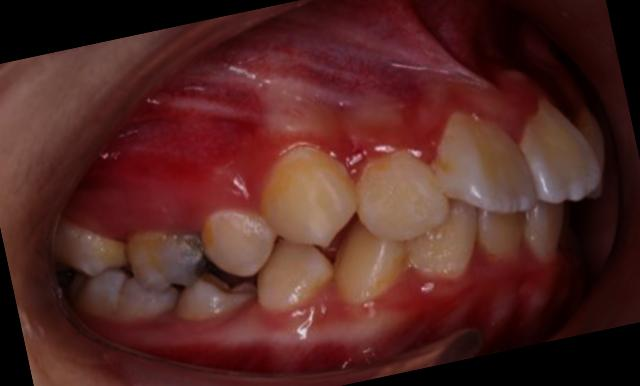canine class I: (223, 121, 401, 324)
molar class II full class: (54, 212, 217, 342)
